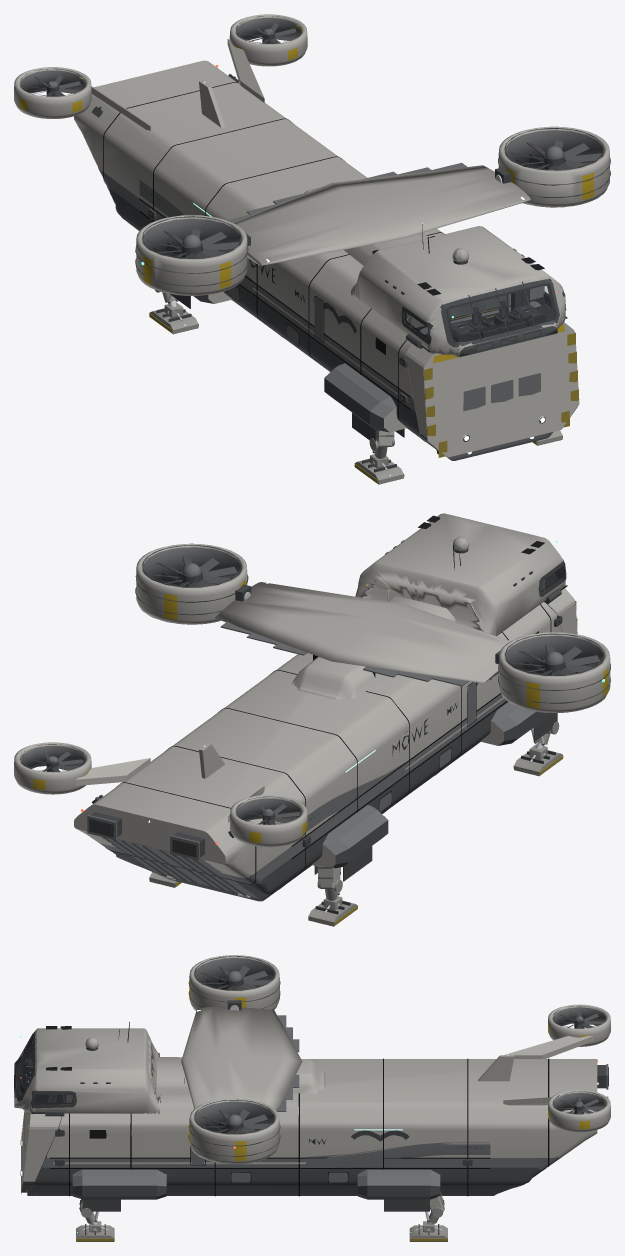
File: MoeweFern.85a235b1c2.glb
The picture shows the model from 3 angles, top to bottom: view 1: azimuth 30°, elevation 25°; view 2: azimuth 150°, elevation 25°; view 3: azimuth 270°, elevation 25°; orthographic projection. The views are drawn at different scales.
Visible parts, largest first — view 1: Fahrwerkskasten hinten.002, Haube.001, Mantel.003, Bugplatte.001, Mantel.002, Kanzelglas.001, Duesenblock.008, Duesenrahmen.002, Bandkante.004, cp CP Formteil.001, Bugfeld.003, Bandlinie.002 (+10 smaller); view 2: Fahrwerkskasten hinten.002, Mantel.003, Bugplatte.001, Mantel.002, Duesenrahmen.002, Bandkante.004, Rampenhaut.003, Duesenblock.008, Rampenblatt.003, Gitterstab.018, Gitterstab.027, Bandlinie.002 (+8 smaller); view 3: Fahrwerkskasten hinten.002, Bugplatte.001, Mantel.002, Duesenrahmen.002, Mantel.003, Duesenblock.008, Bandkante.004, Haube.001, Bandlinie.002, Kanzelglas.001, Gitterstab.027, Gitterstab.018 (+10 smaller).
Part boxes in pixels (left/top/right/bottom): Fahrwerkskasten hinten.002: left=14, top=14, right=565, bottom=459; Haube.001: left=406, top=322, right=579, bottom=457; Mantel.003: left=136, top=215, right=247, bottom=295; Bugplatte.001: left=20, top=18, right=552, bottom=459; Mantel.002: left=498, top=126, right=609, bottom=207; Kanzelglas.001: left=404, top=279, right=556, bottom=350; Duesenblock.008: left=20, top=16, right=566, bottom=454; Duesenrahmen.002: left=47, top=28, right=467, bottom=344; Bandkante.004: left=103, top=82, right=444, bottom=441; cp CP Formteil.001: left=417, top=289, right=545, bottom=342; Bugfeld.003: left=463, top=373, right=540, bottom=411; Bandlinie.002: left=199, top=80, right=468, bottom=402; Fahrwerkskasten hinten.002: left=14, top=513, right=565, bottom=901; Mantel.003: left=499, top=632, right=610, bottom=713; Bugplatte.001: left=21, top=603, right=557, bottom=885; Mantel.002: left=136, top=543, right=247, bottom=624; Duesenrahmen.002: left=48, top=621, right=476, bottom=860; Bandkante.004: left=105, top=604, right=551, bottom=889; Rampenhaut.003: left=106, top=838, right=257, bottom=898; Duesenblock.008: left=20, top=548, right=566, bottom=857; Rampenblatt.003: left=112, top=839, right=245, bottom=896; Gitterstab.018: left=135, top=545, right=251, bottom=615; Gitterstab.027: left=495, top=633, right=610, bottom=703; Bandlinie.002: left=199, top=536, right=503, bottom=778; Fahrwerkskasten hinten.002: left=14, top=1004, right=610, bottom=1199; Bugplatte.001: left=29, top=1007, right=605, bottom=1190; Mantel.002: left=189, top=1098, right=279, bottom=1164; Duesenrahmen.002: left=26, top=1015, right=608, bottom=1191; Mantel.003: left=189, top=955, right=279, bottom=1010; Duesenblock.008: left=14, top=1005, right=606, bottom=1195; Bandkante.004: left=50, top=1058, right=549, bottom=1196; Haube.001: left=21, top=1111, right=61, bottom=1191; Bandlinie.002: left=53, top=1037, right=514, bottom=1164; Kanzelglas.001: left=16, top=1035, right=72, bottom=1107; Gitterstab.027: left=188, top=956, right=280, bottom=1010; Gitterstab.018: left=188, top=1099, right=280, bottom=1156.
Bounding box in the file's own units: 26.81 × 12.13 × 36.88.
